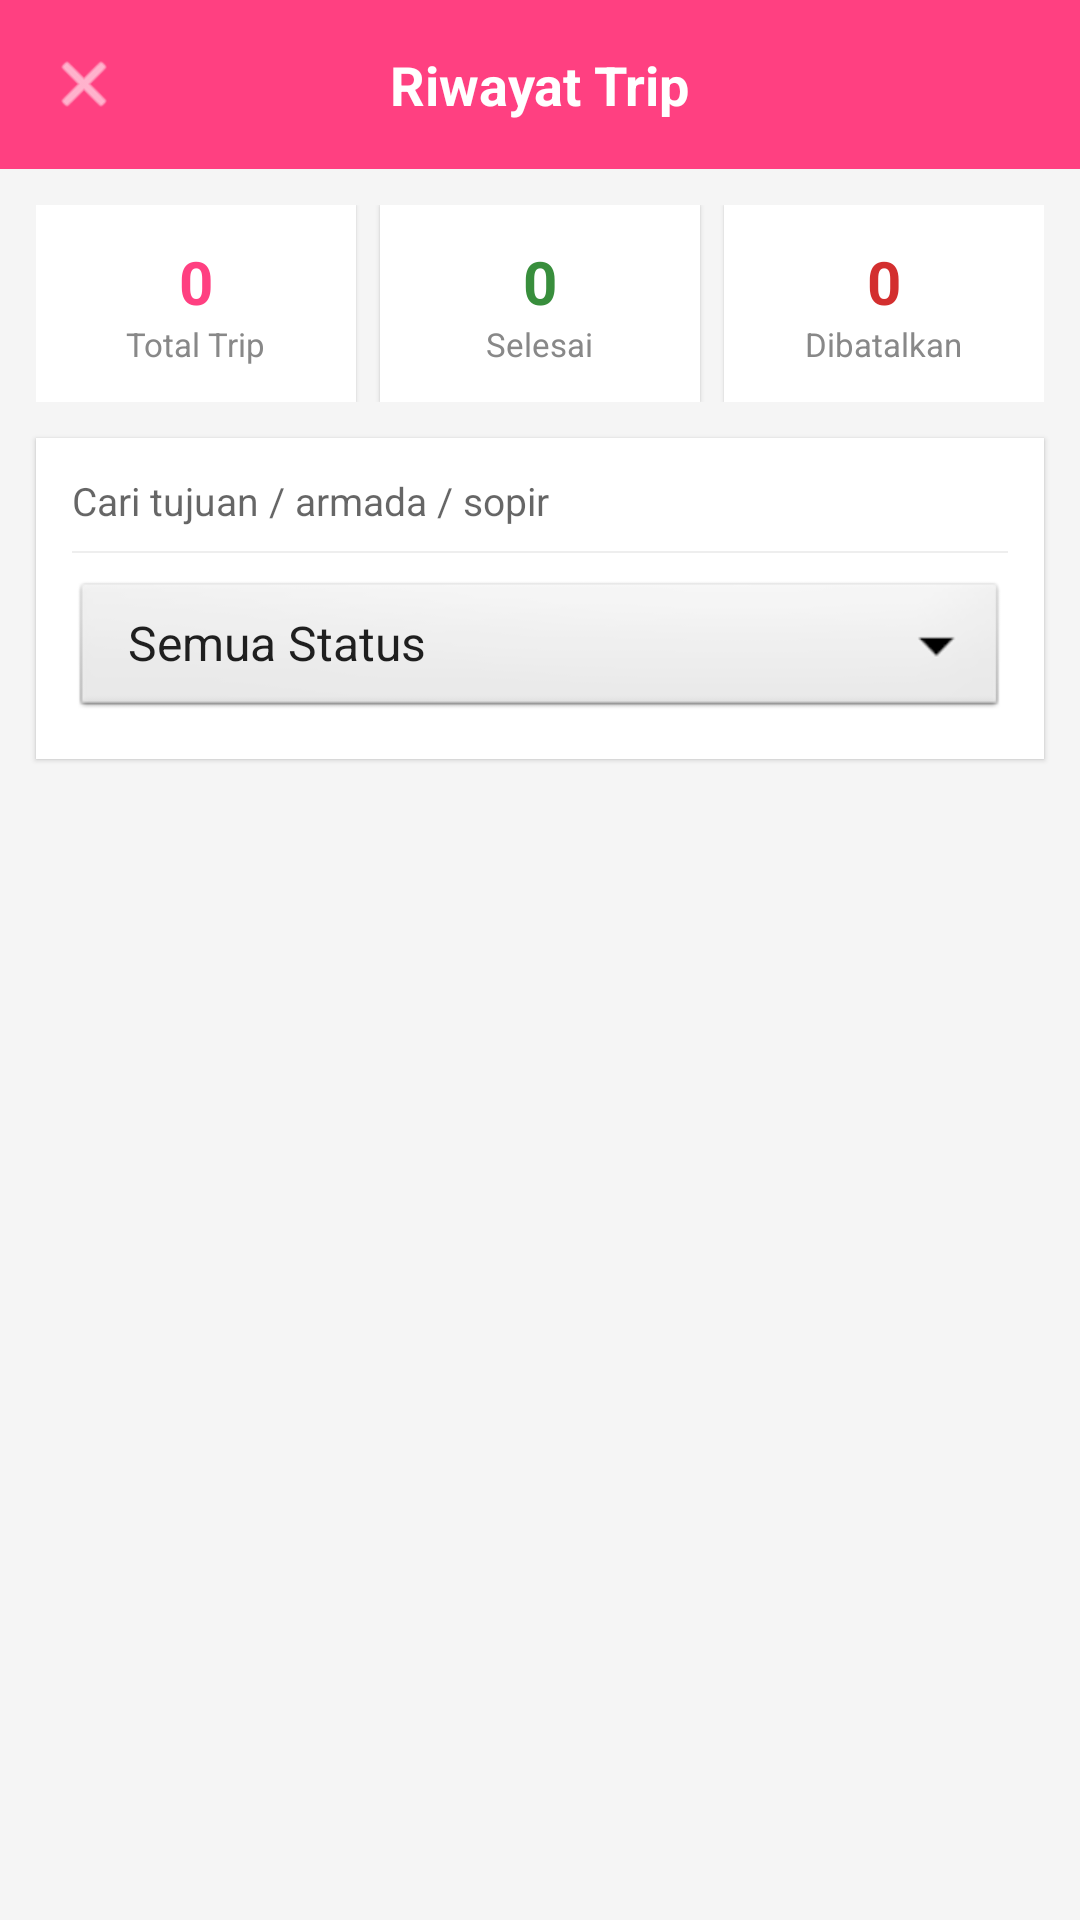

Icons on this 1080 × 1920 Android screen, each with the point to tap as (x=x, y=y):
close clear cancel: (x=84, y=84)
